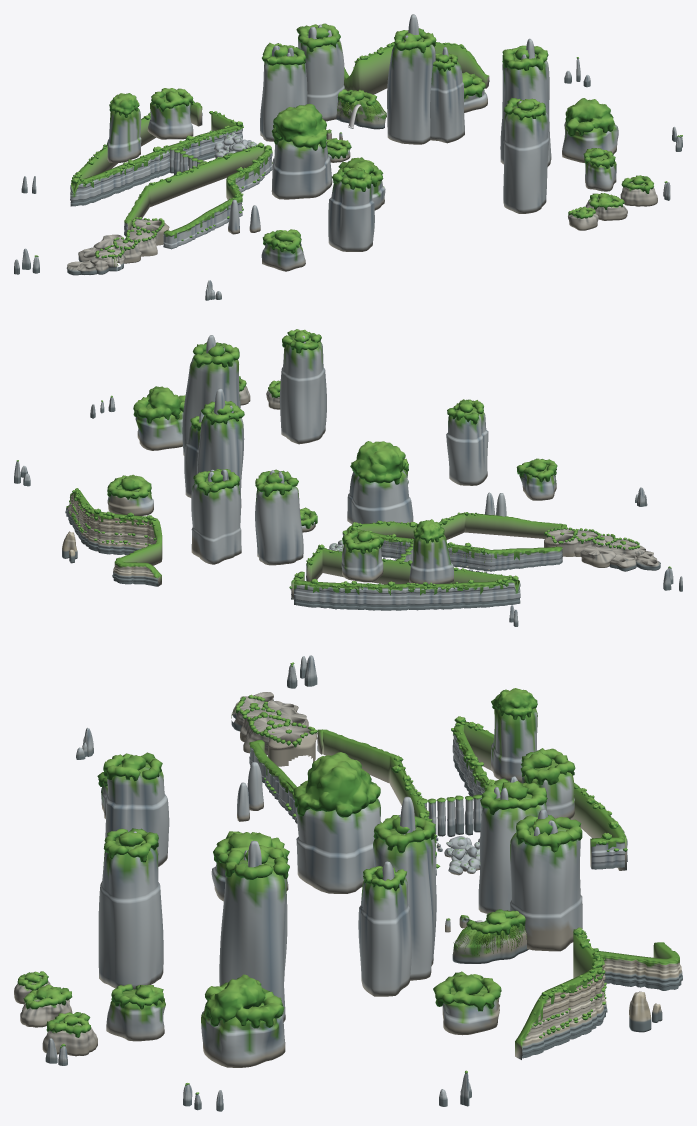
File: landmarks.glb
3 views of the same model, one above another, from view 1: azimuth 30°, elevation 25°; view 2: azimuth 150°, elevation 25°; view 3: azimuth 270°, elevation 25° (orthographic). The views are drawn at different scales.
Visible parts, largest first — view 1: rocks_west, rocks_middle, rocks_east, crowns_west, crowns_middle, crowns_east, rocks_cave, rocks_cliffs, rocks_headland, crowns_headland, vines_west, crowns_cave (+2 smaller); view 2: rocks_west, rocks_middle, rocks_east, crowns_west, rocks_cliffs, crowns_middle, crowns_east, rocks_cave, vines_west, crowns_cave, tufts_cliffs; view 3: rocks_middle, rocks_west, rocks_east, crowns_west, rocks_cliffs, crowns_east, crowns_middle, rocks_cave, rocks_headland, crowns_headland, rocks_stones, crowns_cave (+2 smaller).
Boxes of the visible parts, x1,y1,x2,y2 form: rocks_west: (70, 95, 374, 271); rocks_middle: (260, 14, 548, 213); rocks_east: (430, 38, 618, 191); crowns_west: (71, 88, 371, 253); crowns_middle: (262, 23, 545, 186); crowns_east: (432, 45, 615, 168); rocks_cave: (66, 219, 169, 275); rocks_cliffs: (344, 42, 489, 94); rocks_headland: (568, 182, 657, 230); crowns_headland: (568, 175, 653, 218); vines_west: (83, 127, 272, 238); crowns_cave: (95, 217, 164, 258); rocks_west: (290, 407, 566, 610); rocks_middle: (191, 335, 408, 565); rocks_east: (107, 335, 240, 515); crowns_west: (294, 399, 557, 589); rocks_cliffs: (62, 490, 162, 586); crowns_middle: (193, 329, 408, 528); crowns_east: (107, 342, 239, 499); rocks_cave: (544, 529, 660, 571); vines_west: (293, 530, 544, 595); crowns_cave: (544, 527, 640, 549); tufts_cliffs: (68, 498, 155, 545); rocks_middle: (98, 776, 582, 989); rocks_west: (101, 708, 627, 893); rocks_east: (106, 840, 499, 1067); crowns_west: (97, 688, 618, 844); rocks_cliffs: (515, 929, 682, 1059); crowns_east: (111, 845, 501, 1028); crowns_middle: (103, 778, 582, 935); rocks_cave: (231, 692, 317, 766); rocks_headland: (14, 976, 97, 1056); crowns_headland: (17, 971, 90, 1037); rocks_stones: (419, 794, 481, 836); crowns_cave: (235, 694, 317, 747).
Size of the model in its own units: 398 by 77.33 by 257.
